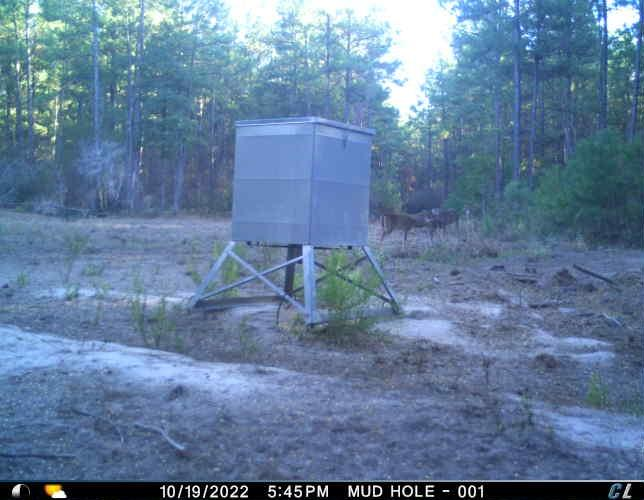Deer: (377, 209, 434, 249), (428, 207, 461, 242)
